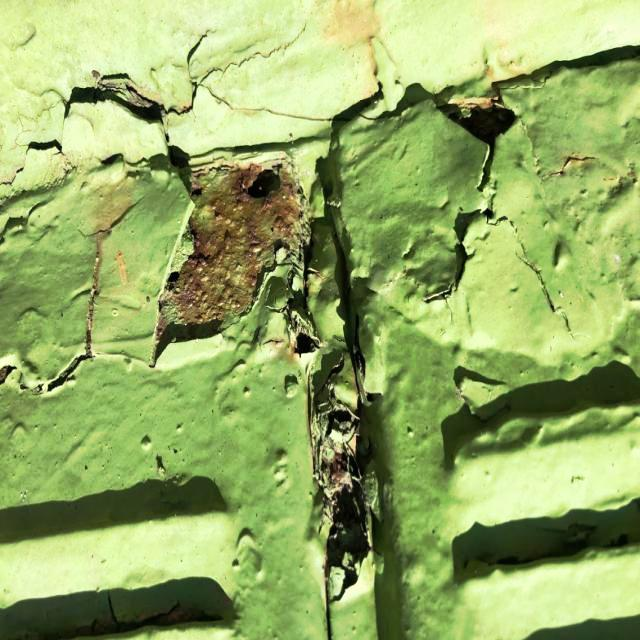Corrosion: (156, 160, 316, 355), (309, 350, 372, 605), (0, 262, 97, 401), (92, 77, 190, 135), (443, 98, 514, 132)
